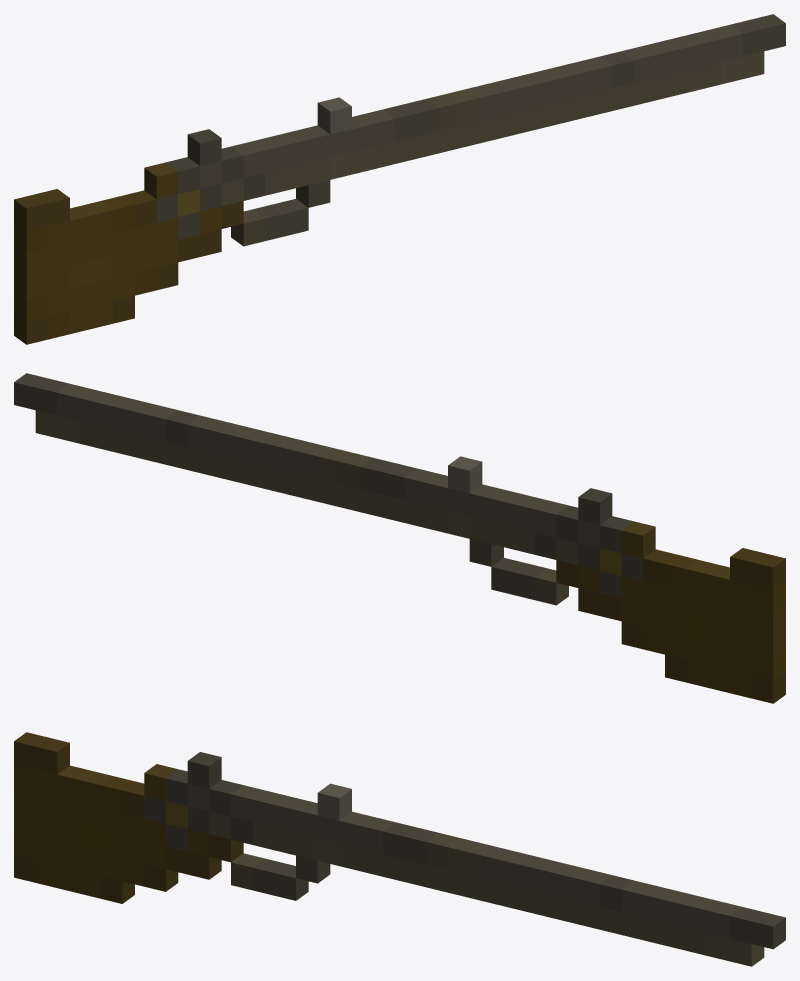
Rendered from gun_windsweeper.obj.
The picture shows the model from 3 angles, top to bottom: view 1: azimuth 30°, elevation 25°; view 2: azimuth 150°, elevation 25°; view 3: azimuth 330°, elevation 25°; orthographic projection.
Visible parts, largest first — view 1: cube; view 2: cube; view 3: cube.
Boxes of the visible parts, bbox=[...] form: cube: bbox=[14, 14, 785, 344]; cube: bbox=[14, 373, 785, 703]; cube: bbox=[14, 732, 785, 966].
Bounding box in the file's own units: 2.19 × 0.4375 × 0.0625.
